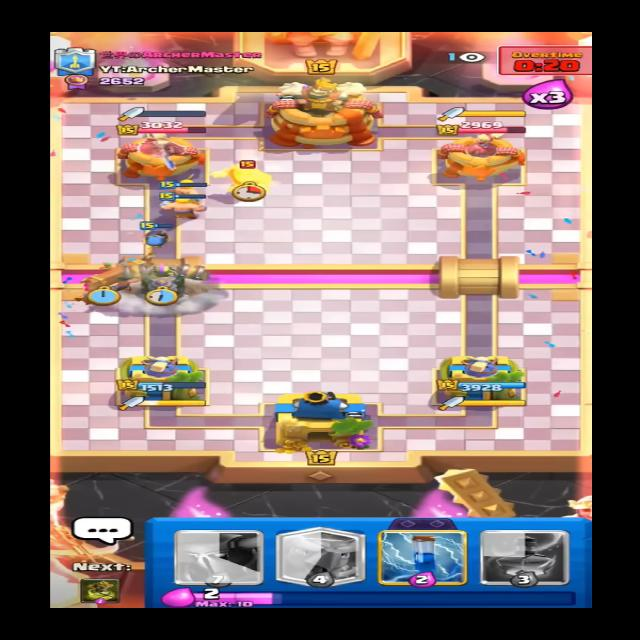Knight: (212, 160, 278, 199)
